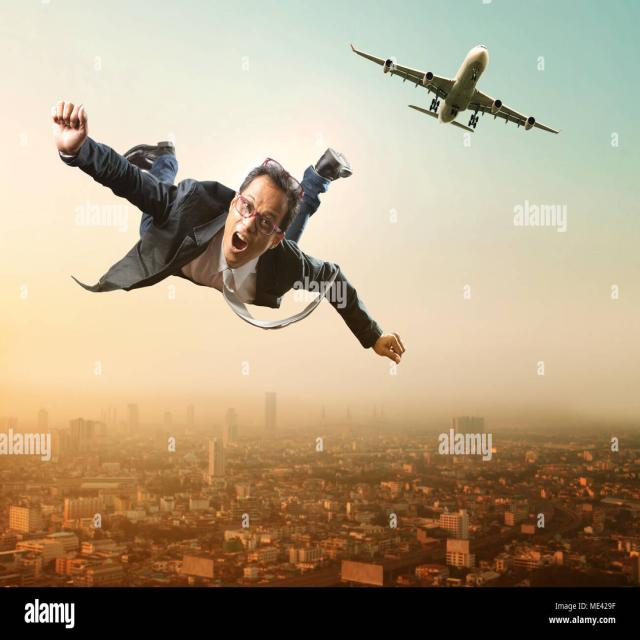human: (214, 153, 302, 270)
